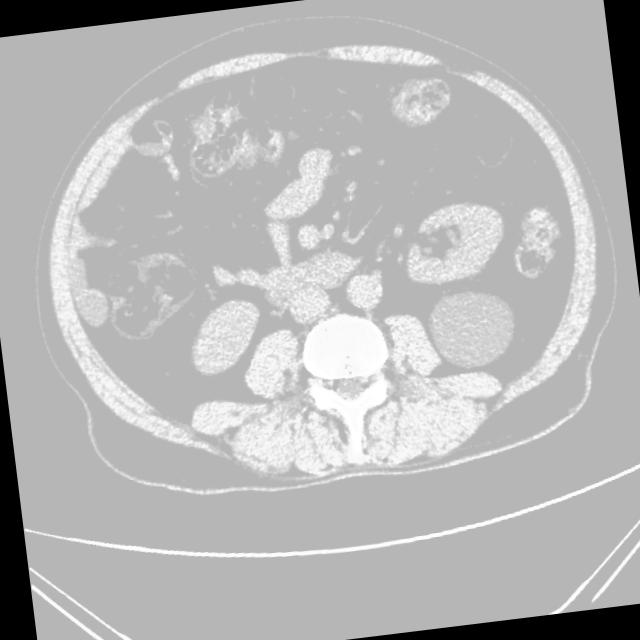cysts: (26, 10, 620, 511)
